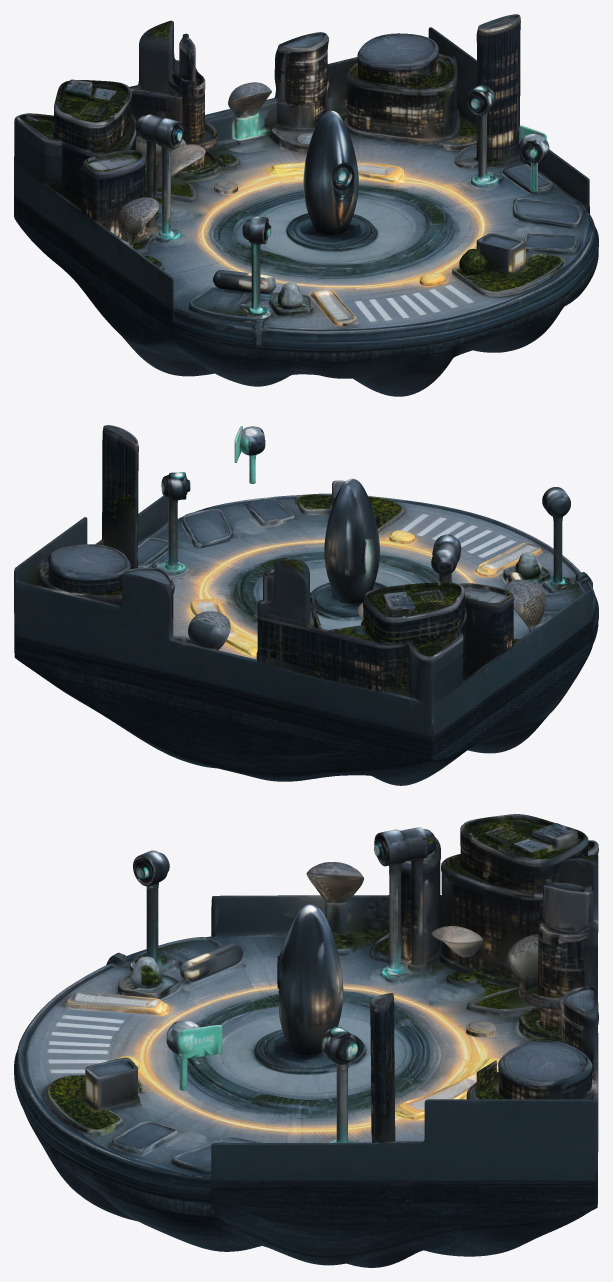
File: model-web.glb
3 renders of one model, top to bottom at view 1: azimuth 30°, elevation 25°; view 2: azimuth 150°, elevation 25°; view 3: azimuth 270°, elevation 25°, orthographic. The views are drawn at different scales.
Visible parts, largest first — view 1: node_0; view 2: node_0; view 3: node_0.
Part boxes in pixels (box(x1,y1,x2,y2)): node_0: box(14, 14, 598, 396); node_0: box(14, 425, 598, 785); node_0: box(14, 814, 598, 1267).
Bounding box in the file's own units: 0.8382 × 0.4913 × 0.838.
Materials: 1 (1 with a texture image).
